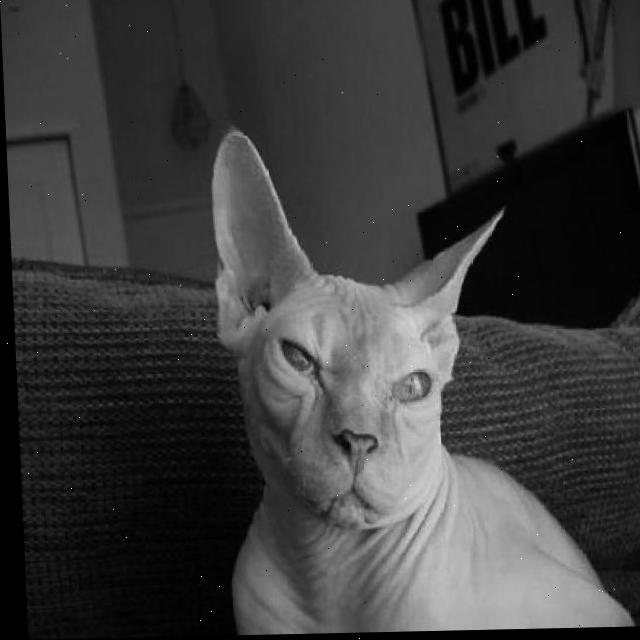Cat: (206, 117, 637, 634)
